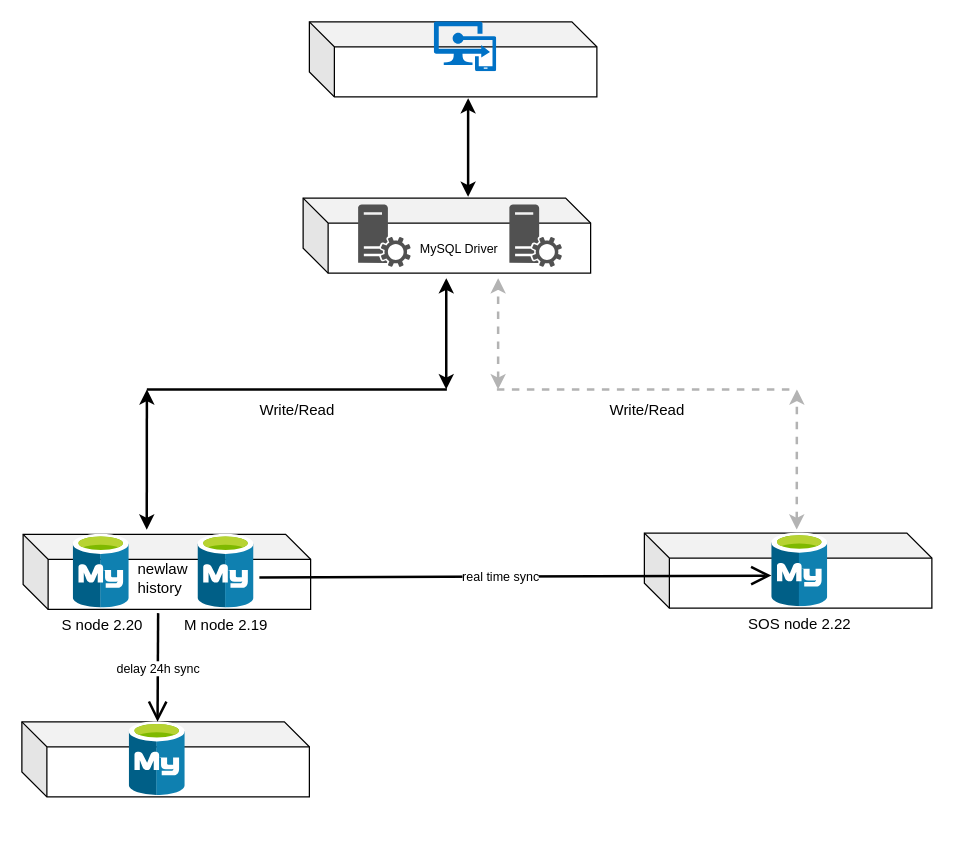
This 954x844 diagram has some shape labels left out. Here are the shapes that lost their labels. From the top down, the centre of each, then its label:
pixel 465 46: Application
pixel 157 758: Backup node 2.21
